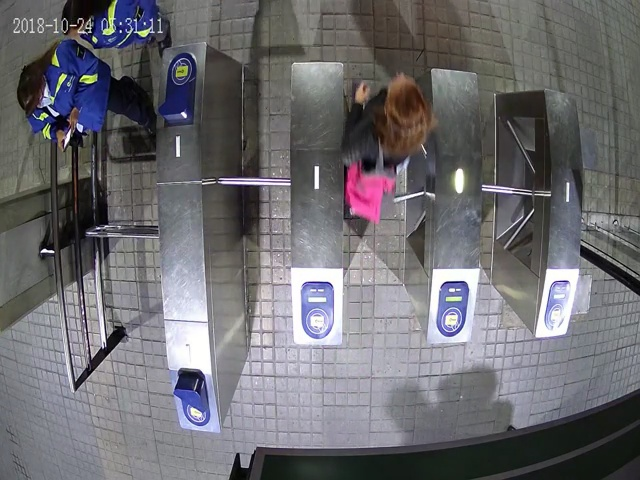Chaleco_azul: (17, 39, 158, 149), (62, 1, 172, 51)
